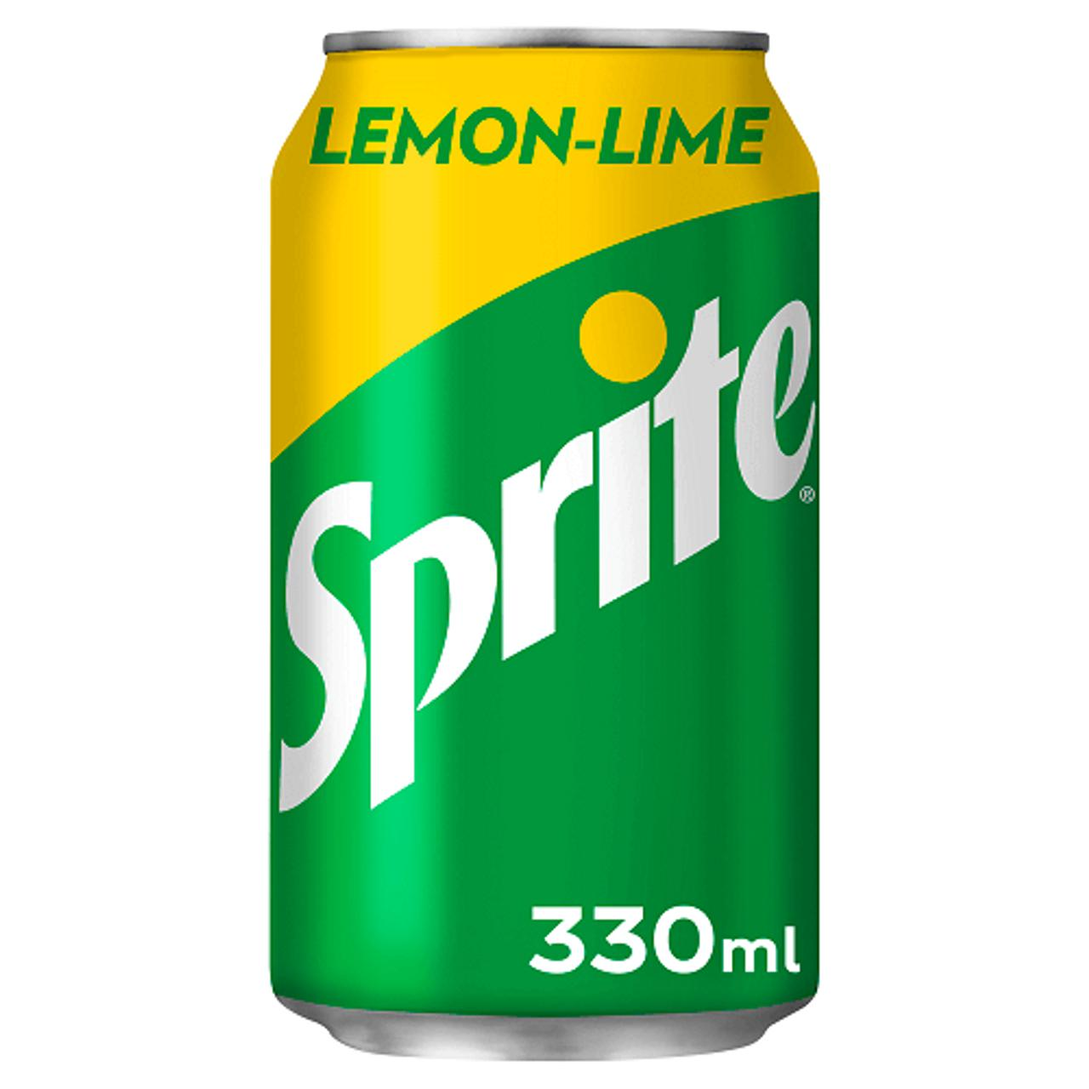cylinder: (271, 27, 819, 1061)
